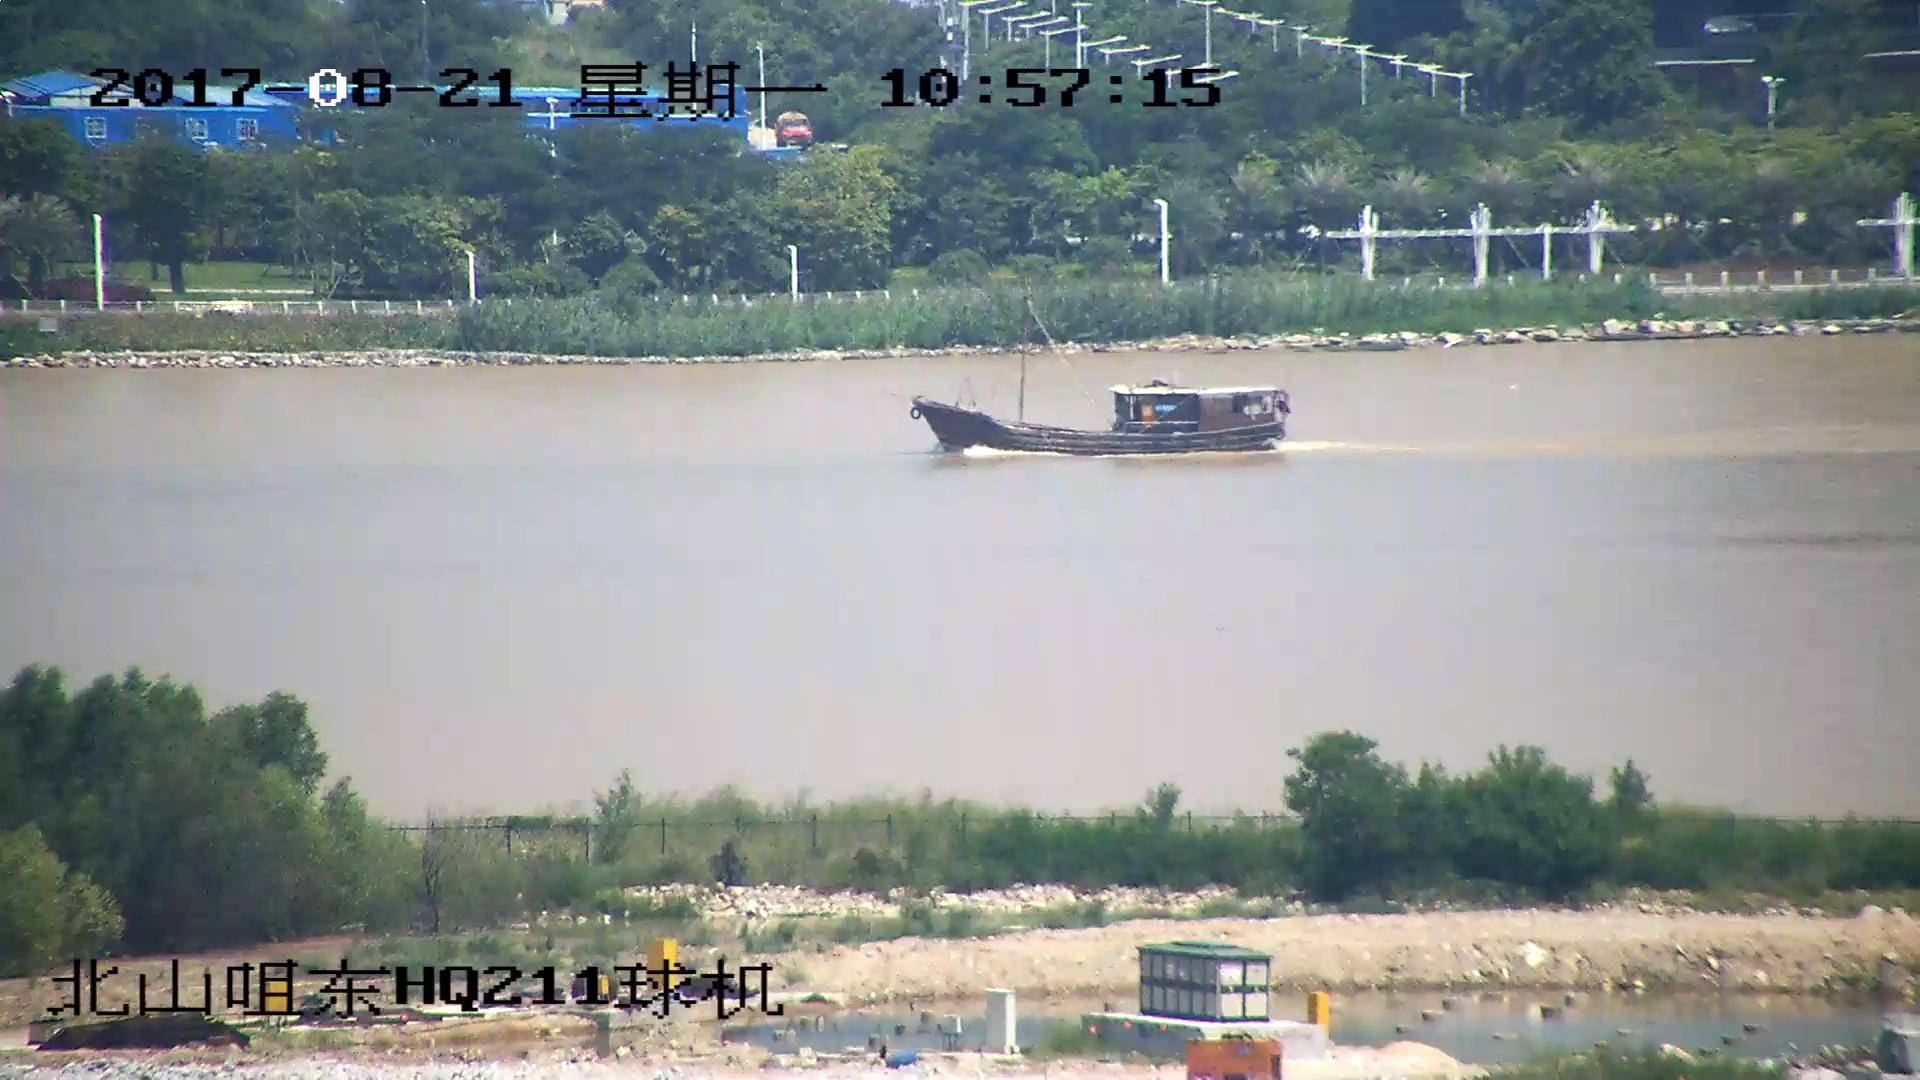fishing boat: (904, 298, 1292, 460)
